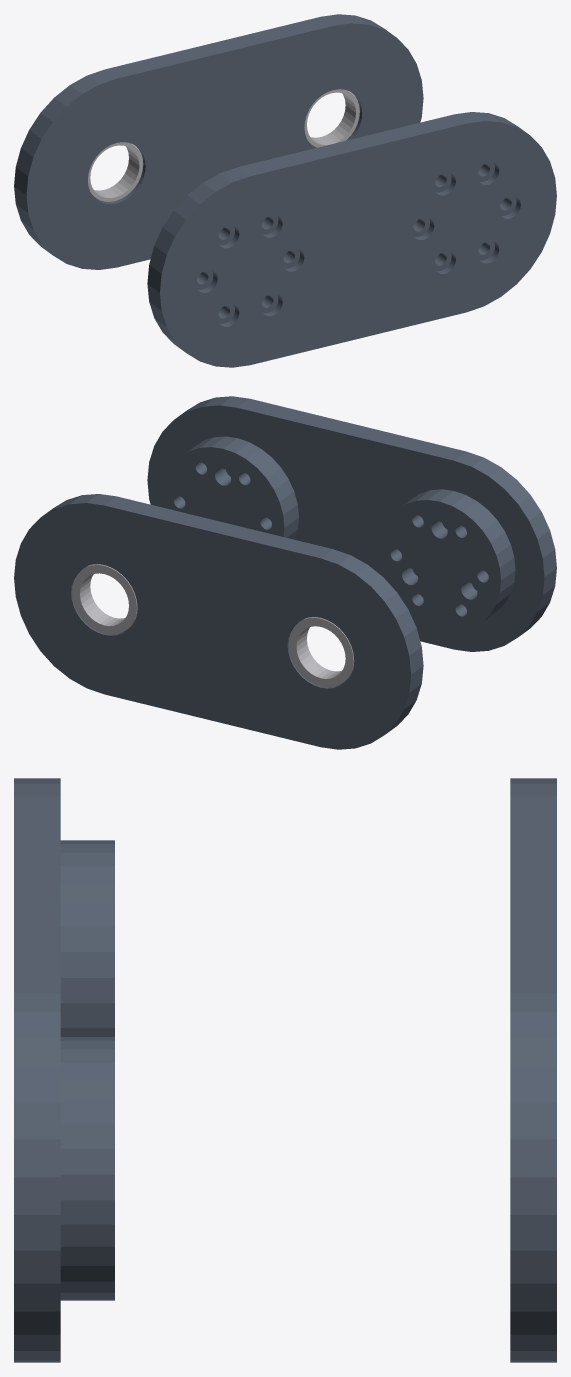
The model's file is neck_link.dae.
The picture shows the model from 3 angles, top to bottom: view 1: azimuth 30°, elevation 25°; view 2: azimuth 150°, elevation 25°; view 3: azimuth 270°, elevation 25°; orthographic projection. The views are drawn at different scales.
Visible parts, largest first — view 1: neck_link-printed, neck_link-steel; view 2: neck_link-printed, neck_link-steel; view 3: neck_link-printed.
Boxes of the visible parts, x1,y1,x2,y2 form: neck_link-printed: (14,14,556,367); neck_link-steel: (88,89,359,202); neck_link-printed: (14,396,556,749); neck_link-steel: (72,564,354,687); neck_link-printed: (14,778,556,1362).
Bounding box in the file's own units: 0.11 × 0.07 × 0.05.
